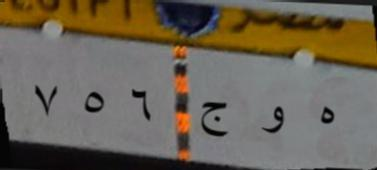5: (80, 84, 108, 121)
6: (126, 84, 154, 130)
7: (32, 82, 64, 121)
haa: (312, 92, 341, 134)
jeem: (197, 96, 232, 148)
waw: (253, 94, 289, 146)
